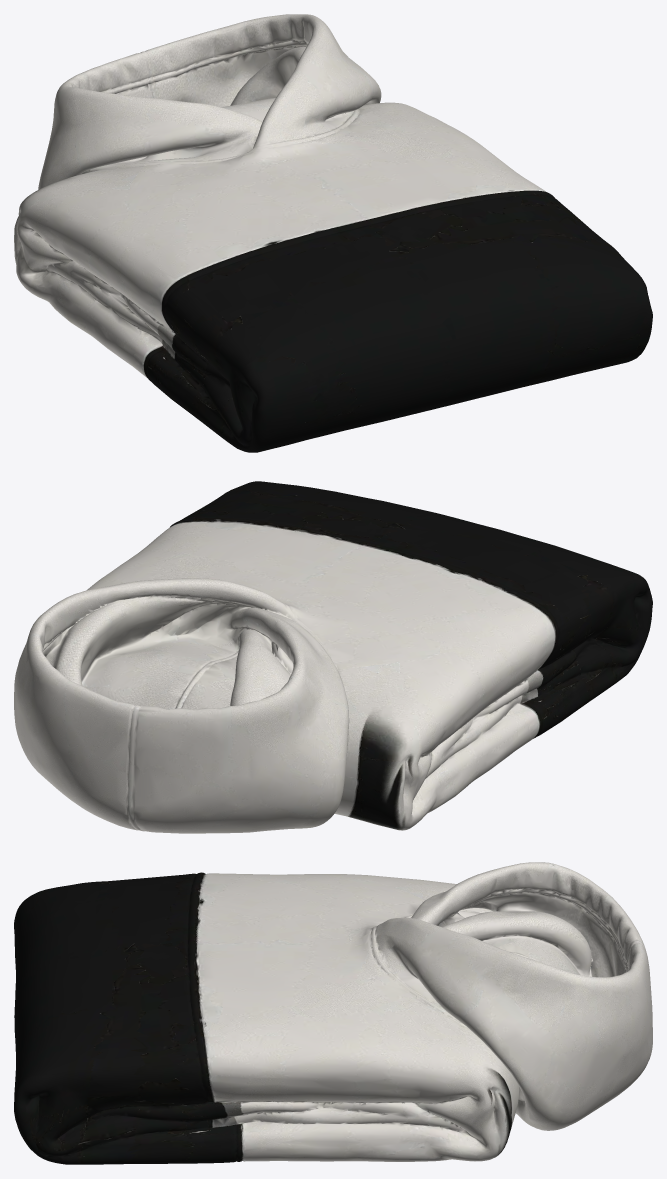
The model's file is hoodie-folded.glb.
3 views of the same model, one above another, from view 1: azimuth 30°, elevation 25°; view 2: azimuth 150°, elevation 25°; view 3: azimuth 270°, elevation 25° (orthographic). The views are drawn at different scales.
Bounding box in the file's own units: 1.34 × 0.5773 × 1.9.
Materials: 1 (1 with a texture image).
